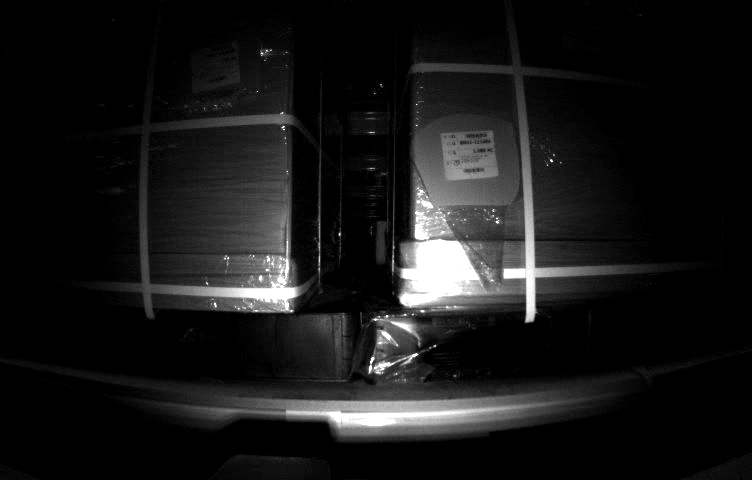True Barcode: (439, 126, 493, 178), (187, 46, 241, 88)
